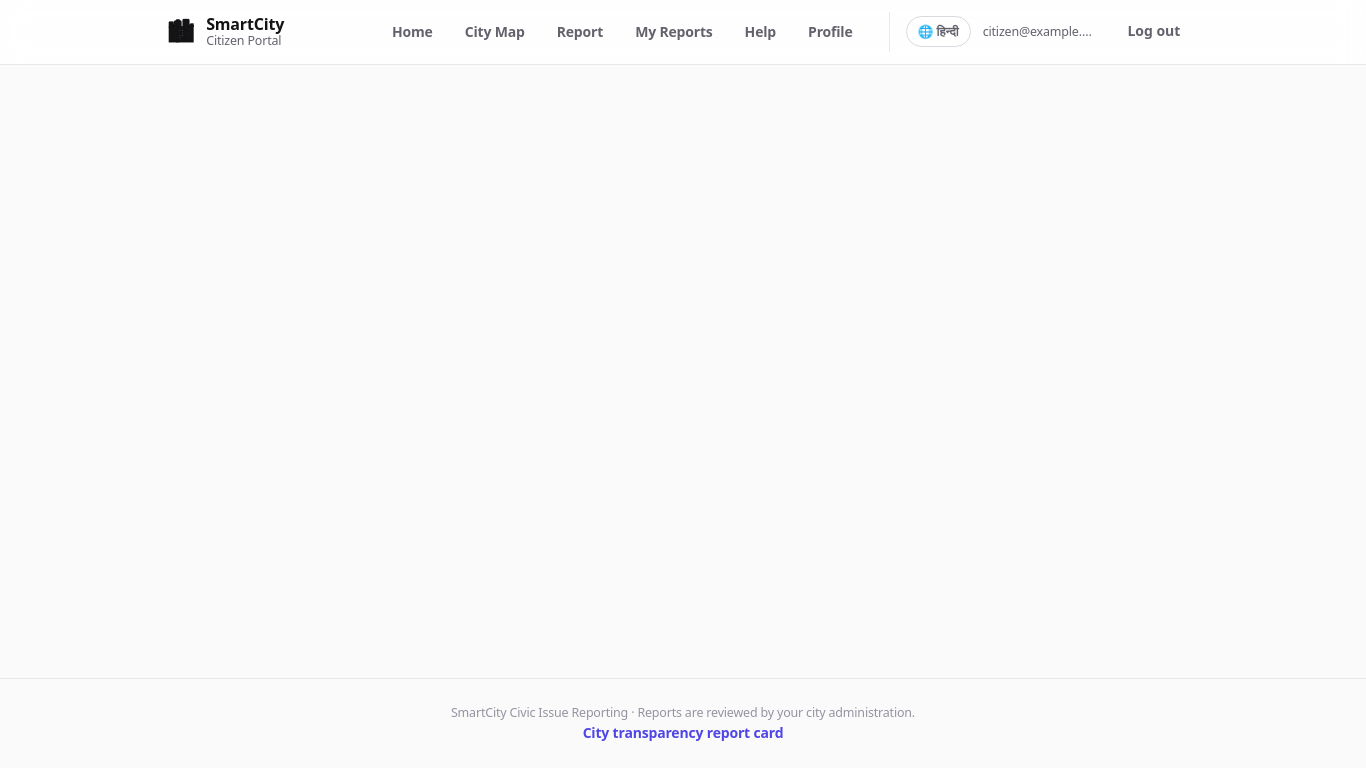
Test: Multi-language citizen portal › switches the citizen navigation to Hindi and back
The width and height of the screenshot is (1366, 768).
Expected: the link "My Reports" is shown, [635, 22, 713, 41]
Click the button "🌐 हिन्दी": [938, 32] box [906, 16, 971, 47]
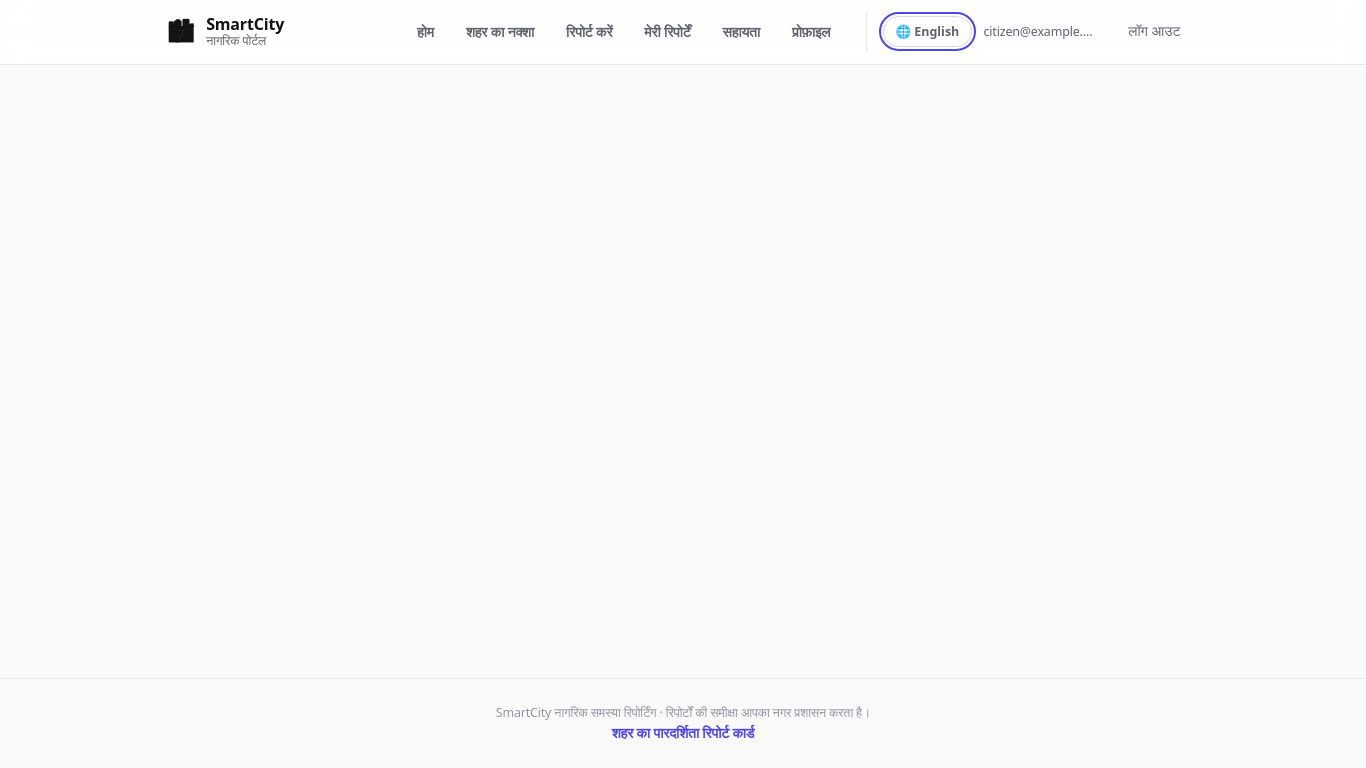
Expected: the link "मेरी रिपोर्टें" is shown, [644, 22, 690, 41]
Expected: the link "शहर का नक्शा" is shown, [466, 22, 534, 41]
Click the button "🌐 English": [927, 32] box [883, 16, 972, 47]
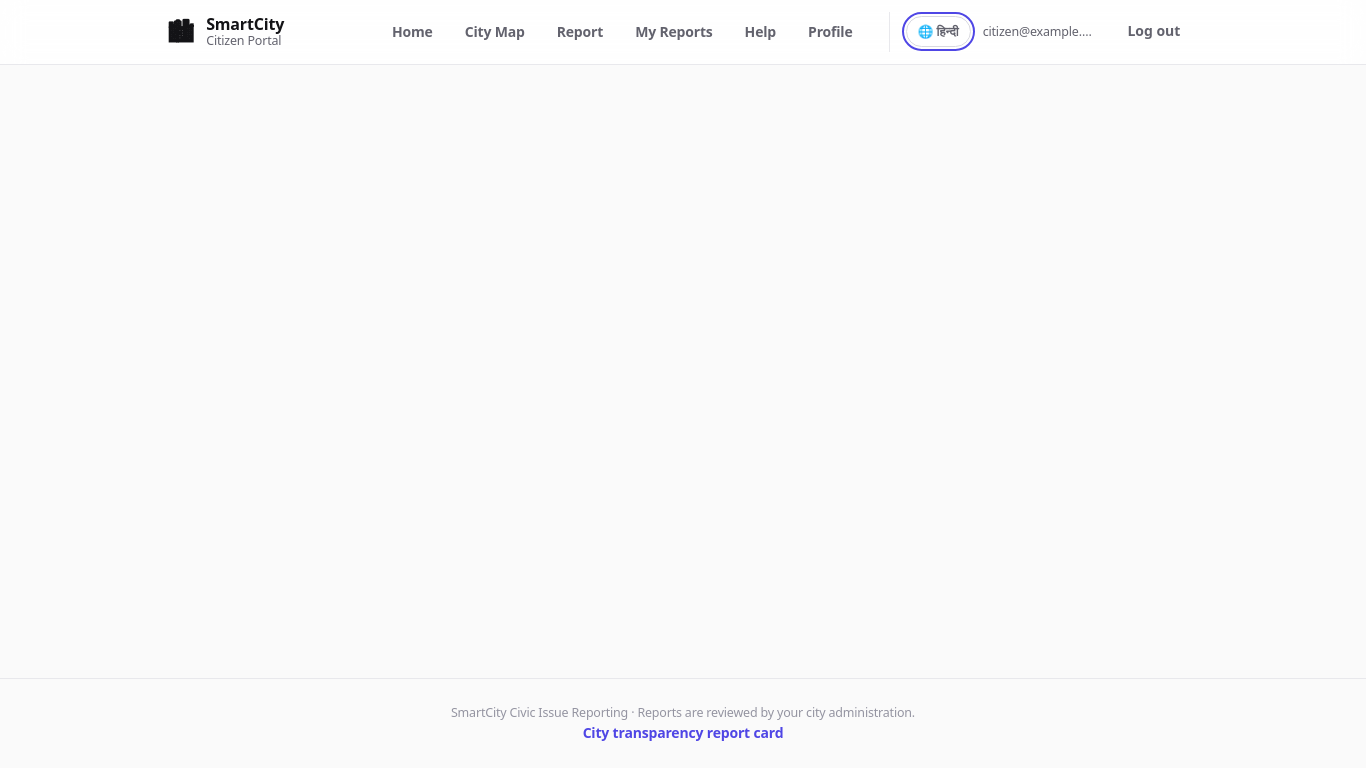
Expected: the link "My Reports" is shown, [635, 22, 713, 41]
